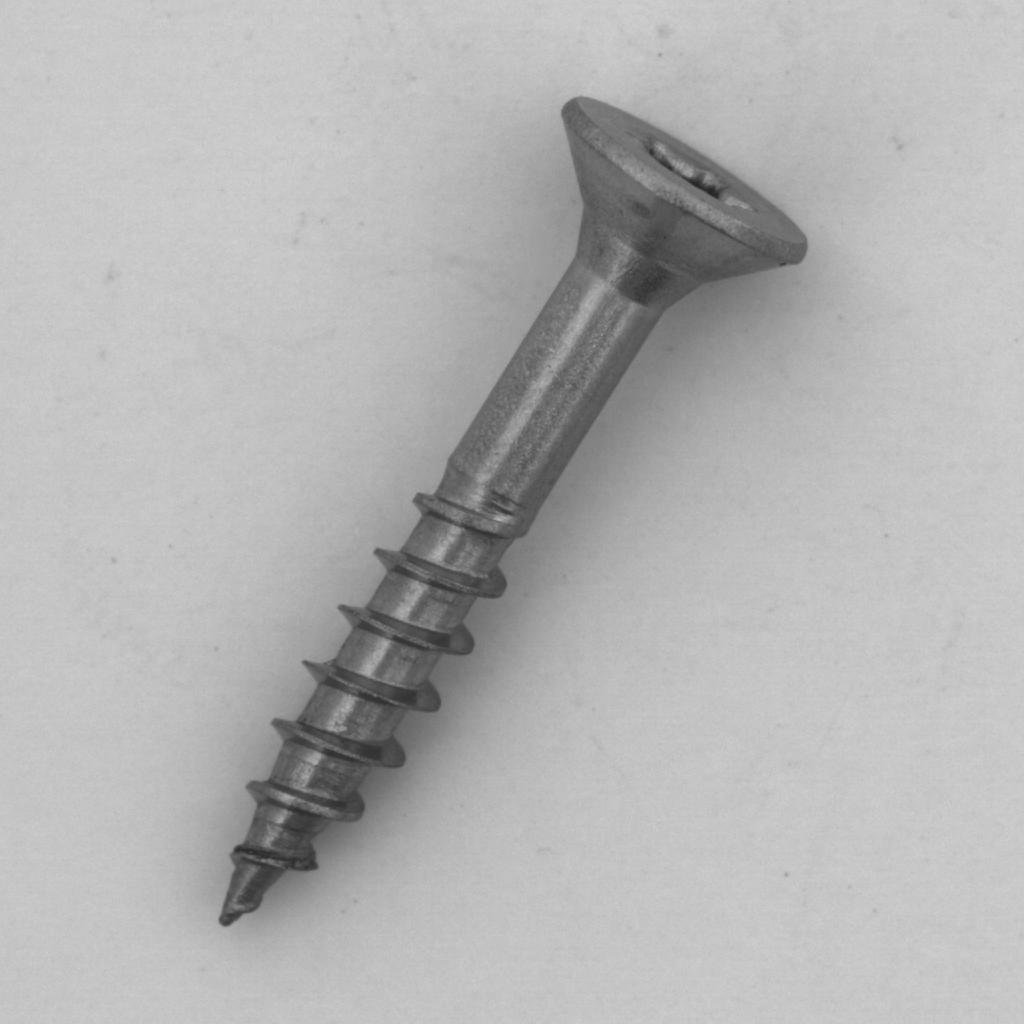good: (198, 77, 817, 941)
